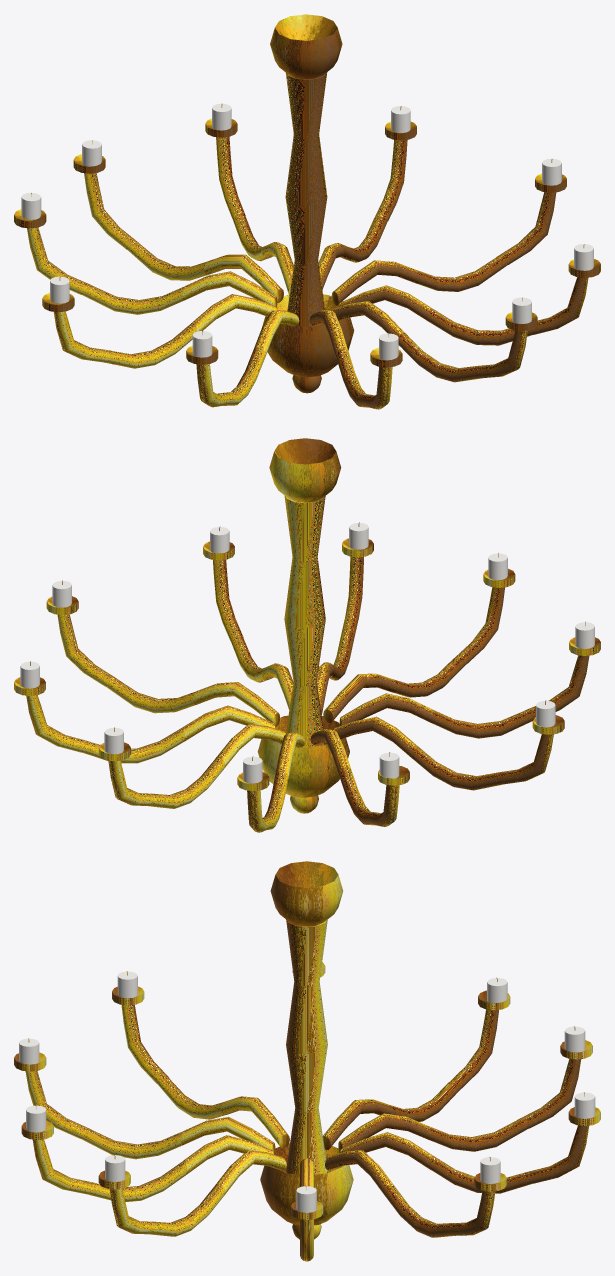
Rendered from lampadario_colorato 1.fbx.
3 renders of one model, top to bottom at view 1: azimuth 30°, elevation 25°; view 2: azimuth 150°, elevation 25°; view 3: azimuth 270°, elevation 25°, orthographic.
Visible parts, largest first — view 1: Cylinder; view 2: Cylinder; view 3: Cylinder.
Boxes of the visible parts, x1,y1,x2,y2 form: Cylinder: [14, 14, 600, 409]; Cylinder: [14, 438, 600, 832]; Cylinder: [14, 861, 600, 1261].
Bounding box in the file's own units: 12.86 × 8.62 × 12.55.
2 materials, 1 textured.
